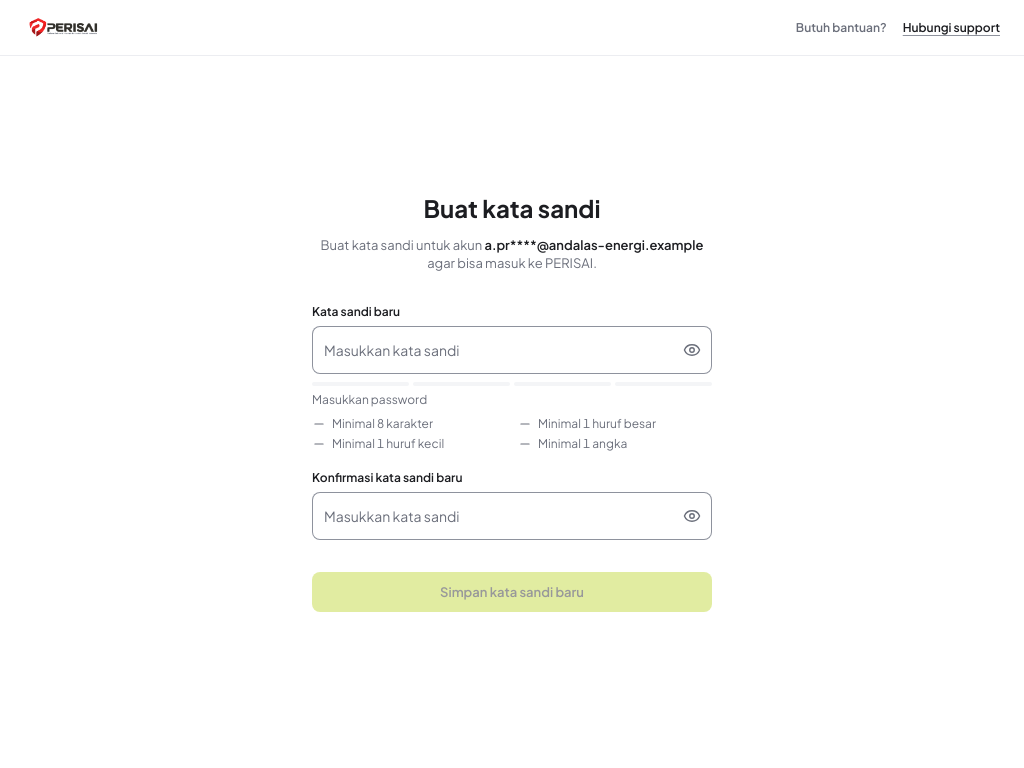
Test: Aktivasi (FR-AK-01..17) › password umum ditolak (FR-AK-06)
Type "Password1" into the password field labelled "Kata sandi baru" at point(512, 350), box 312,326 -> 712,374
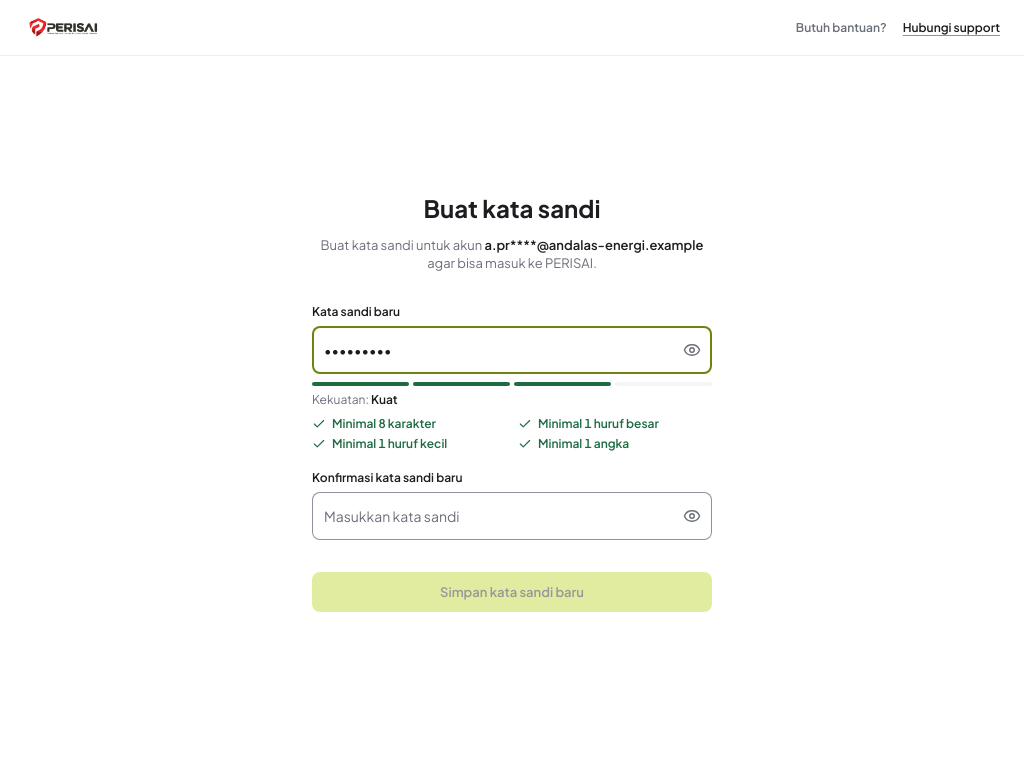
Type "Password1" into the password field labelled "Konfirmasi kata sandi baru" at point(512, 516), box 312,492 -> 712,540
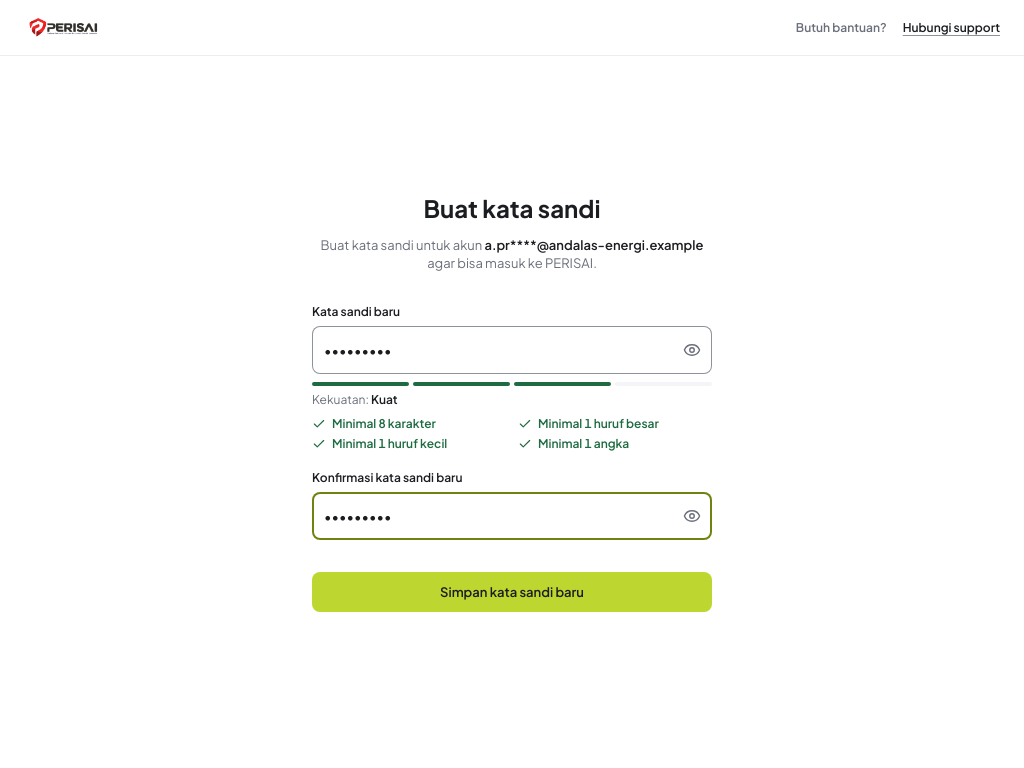
Click the button "Simpan kata sandi baru" at point(512, 592), box 312,572 -> 712,612
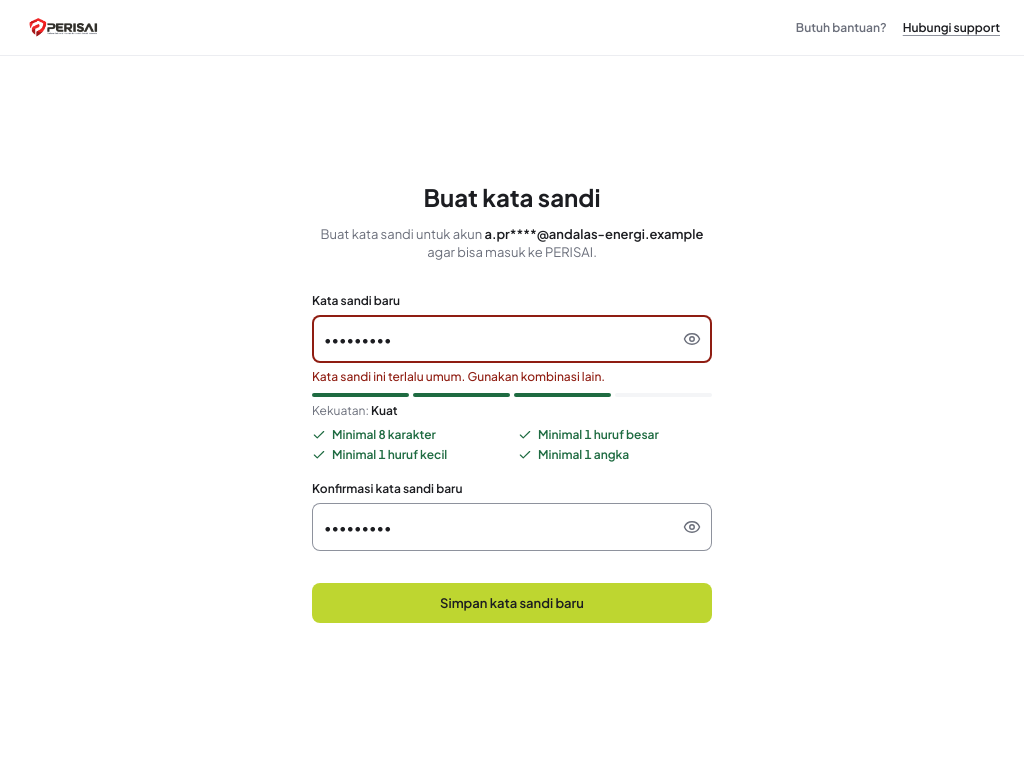
Now the text "Kata sandi ini terlalu umum. Gunakan kombinasi lain." is shown, box 312,369 -> 605,384
